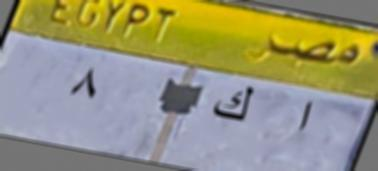8: (64, 58, 112, 114)
alif: (284, 96, 325, 142)
kaaf: (208, 84, 258, 128)
